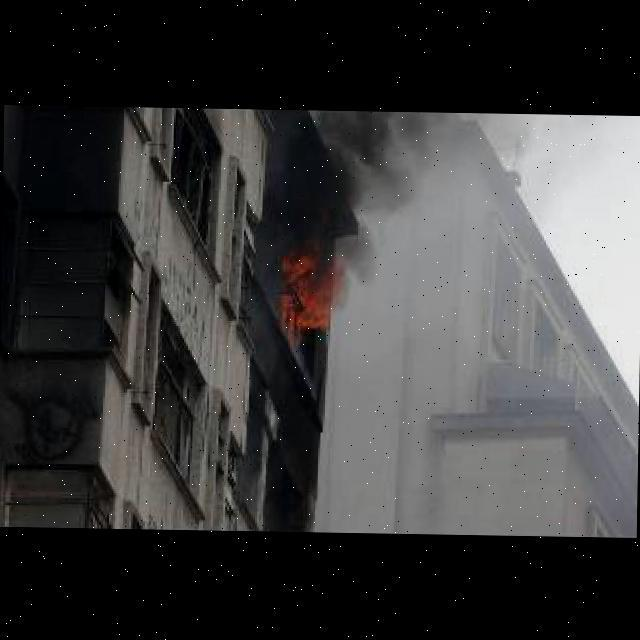Fire: (278, 236, 340, 343)
Smoke: (278, 108, 427, 253)
